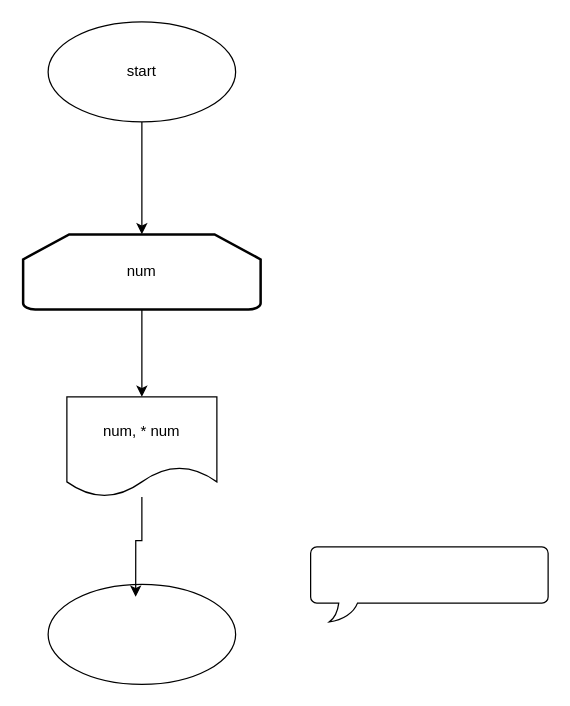
The diagram is 570 pixels wide and 706 high, and some of its shapes have lost their labels. The box of each missing label's shape, as (x1, y1, x2, y2) in pixels:
stop: (47, 583, 236, 684)
ואז זה מדפיס לנו את החזקה של המספר: (309, 546, 548, 622)
